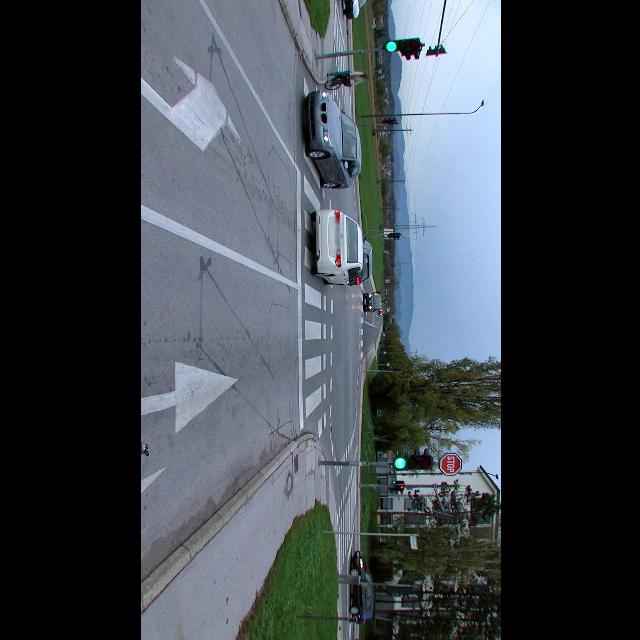Rectangle: (408, 534, 416, 550)
Stop: (437, 452, 463, 476)
